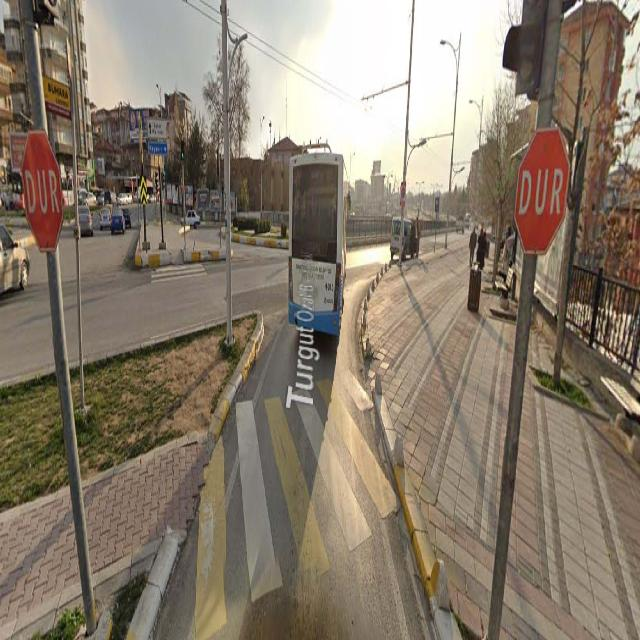dur: (517, 128, 567, 258), (21, 128, 62, 253)
